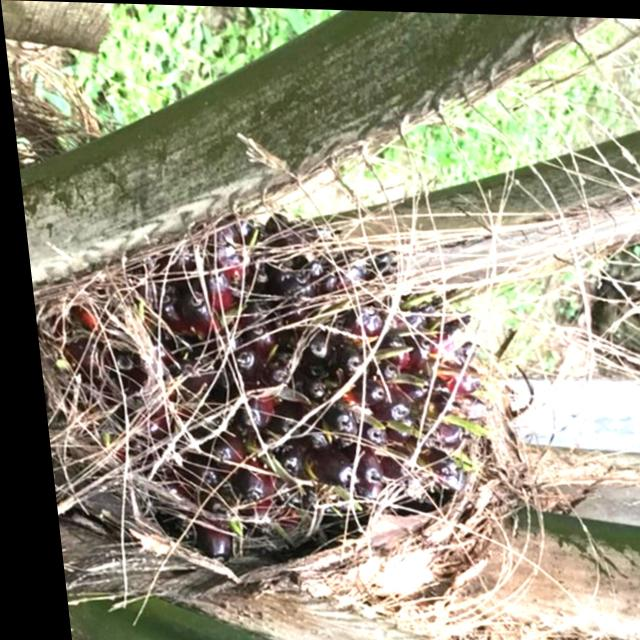ripe: (41, 191, 546, 596)
